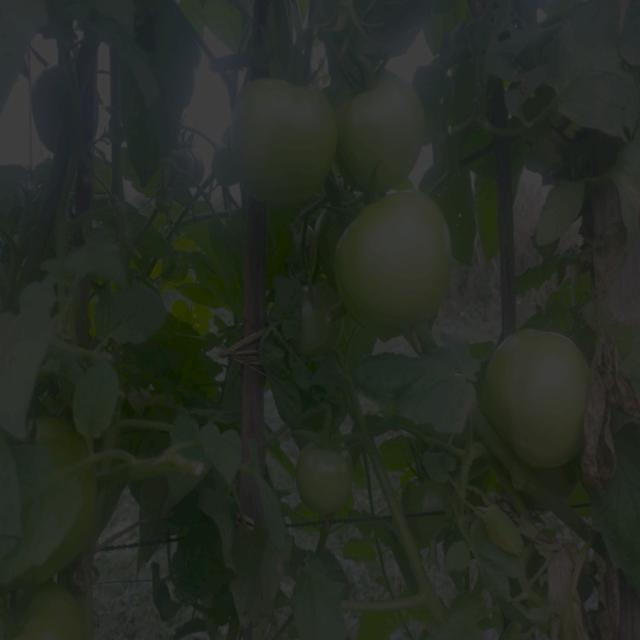tomato: (332, 186, 457, 330), (489, 322, 587, 468), (232, 78, 343, 198), (344, 70, 429, 190), (9, 583, 92, 640), (286, 444, 349, 516), (411, 476, 450, 551)
